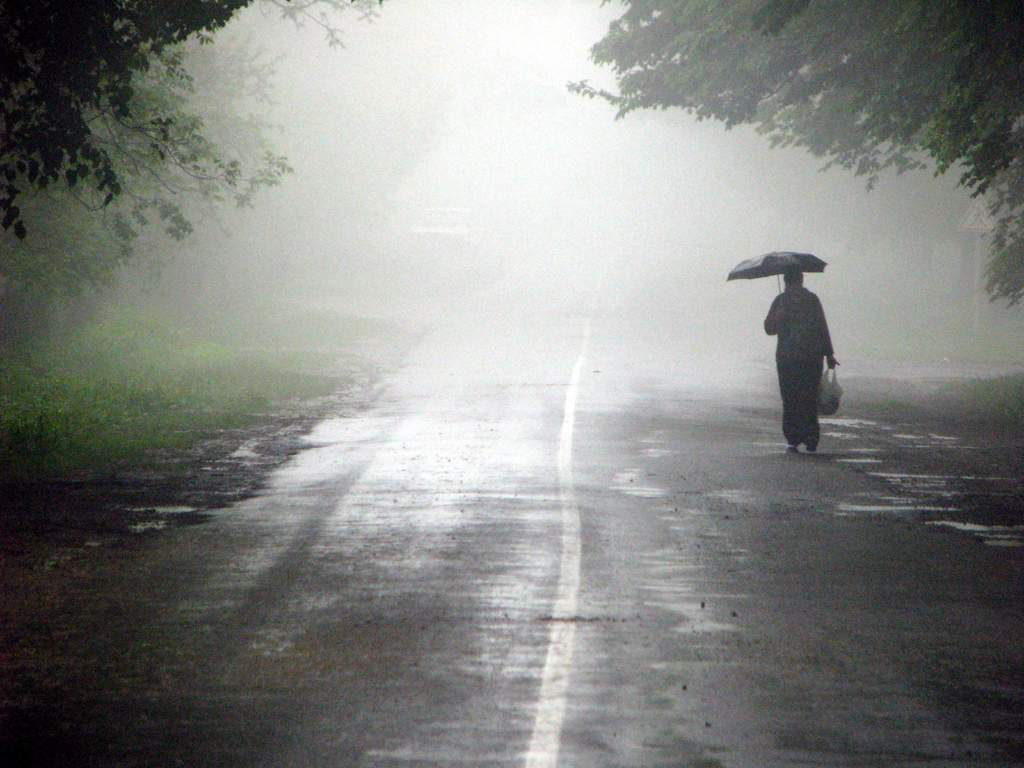Tree: (0, 0, 385, 447), (565, 0, 1024, 309)
